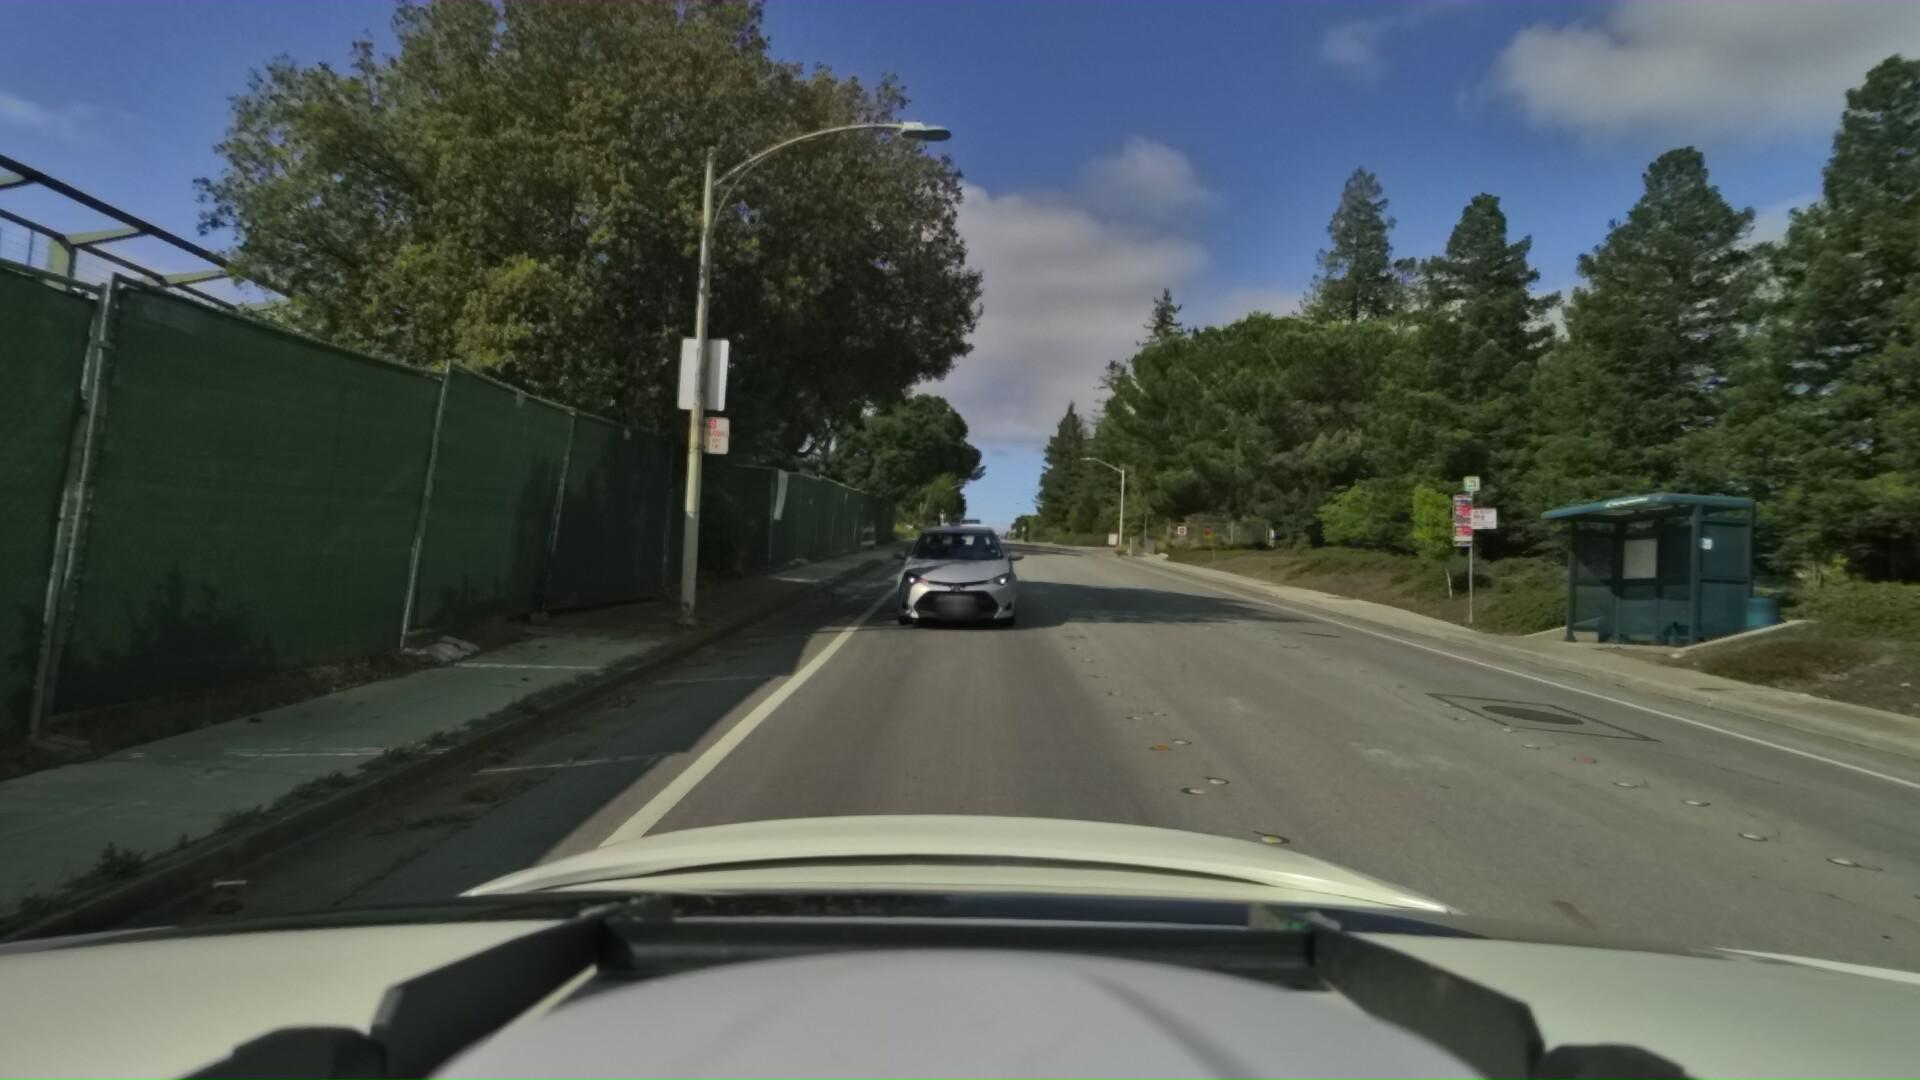car: (881, 502, 1019, 629), (952, 504, 1002, 553)
